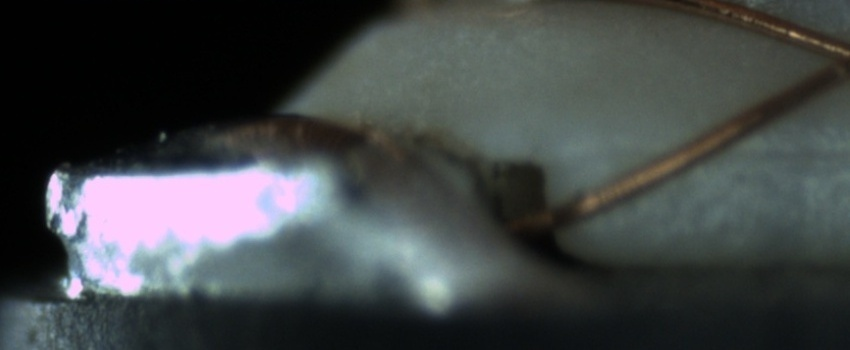CL: (803, 25, 850, 91)
DL: (623, 115, 850, 185)
